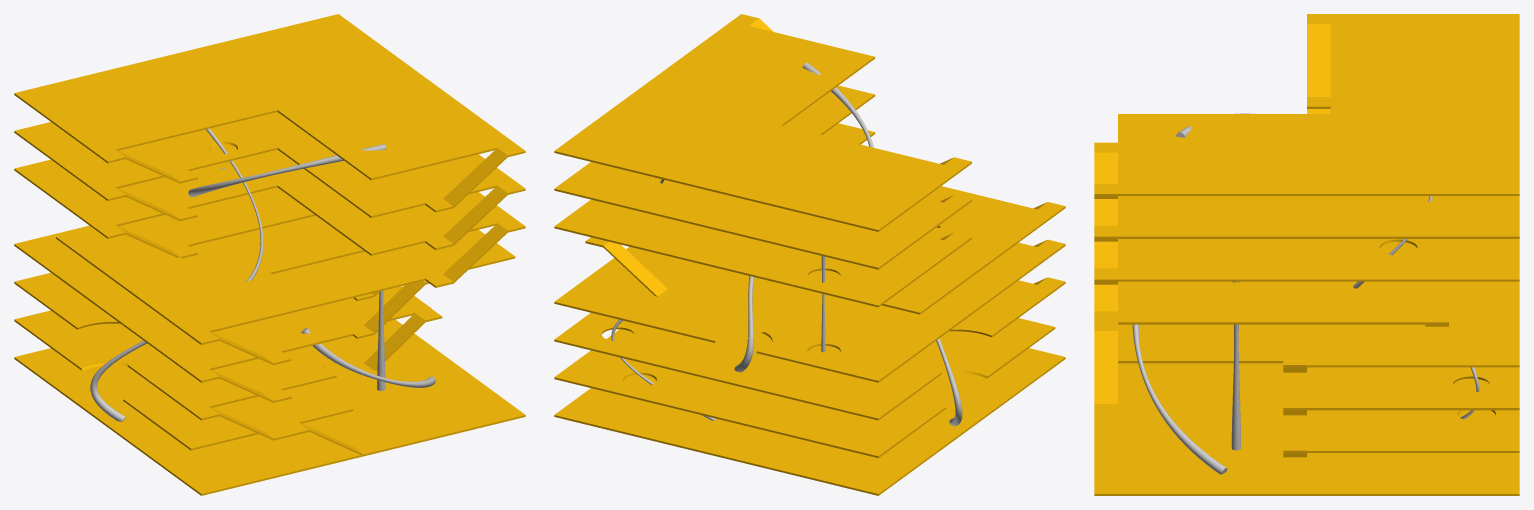
3 views of the same model, side by side, from view 1: azimuth 30°, elevation 25°; view 2: azimuth 150°, elevation 25°; view 3: azimuth 270°, elevation 25° (orthographic). The views are drawn at different scales.
Parts seen in each view (by area): view 1: LEVEL, STAIRS, LEVEL Level_3, firepole Layer_08, firepole Layer_01, firepole Layer_06, firepole Layer_02, firepole Layer_03; view 2: LEVEL, LEVEL Level_3, STAIRS, firepole Layer_07, firepole Layer_06; view 3: LEVEL, STAIRS, firepole Layer_01, firepole Layer_02.
Boxes of the visible parts, box(x1,y1,x2,y2) form: LEVEL: box(14, 14, 525, 495); STAIRS: box(97, 143, 525, 456); LEVEL Level_3: box(123, 349, 338, 411); firepole Layer_08: box(188, 144, 386, 196); firepole Layer_01: box(301, 328, 435, 387); firepole Layer_06: box(90, 340, 146, 421); firepole Layer_02: box(377, 291, 385, 390); firepole Layer_03: box(206, 128, 263, 281); LEVEL: box(554, 21, 1065, 495); LEVEL Level_3: box(706, 317, 1002, 378); STAIRS: box(585, 14, 1065, 300); firepole Layer_07: box(734, 276, 754, 372); firepole Layer_06: box(936, 338, 962, 426); LEVEL: box(1094, 14, 1519, 495); STAIRS: box(1094, 14, 1448, 457); firepole Layer_01: box(1132, 324, 1227, 474); firepole Layer_02: box(1231, 281, 1240, 450).
Bounding box in the file's own units: 90.92 × 71.96 × 90.
